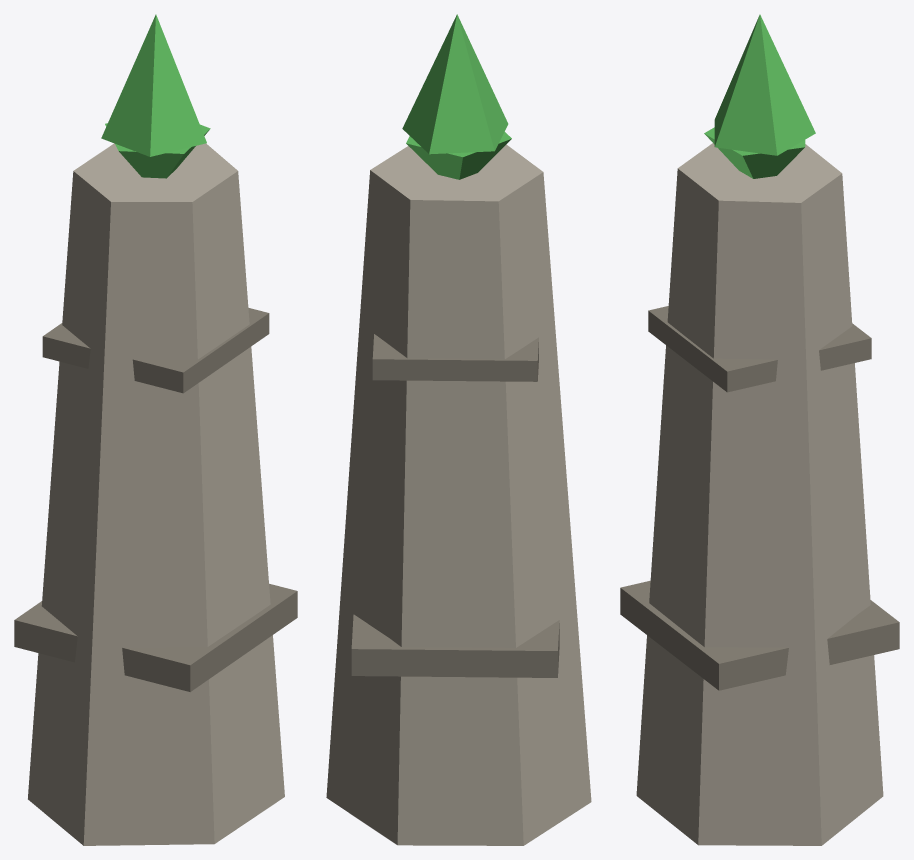
Rendered from shrine_stone_earth.glb.
The picture shows the model from 3 angles, left to right: view 1: azimuth 30°, elevation 25°; view 2: azimuth 150°, elevation 25°; view 3: azimuth 270°, elevation 25°; orthographic projection.
Visible parts, largest first — view 1: Stone; view 2: Stone; view 3: Stone.
Part boxes in pixels (left/top/right/bottom): Stone: left=14, top=14, right=297, bottom=845; Stone: left=326, top=14, right=591, bottom=845; Stone: left=620, top=14, right=899, bottom=845.
Bounding box in the file's own units: 1.7 × 5.25 × 1.7.
